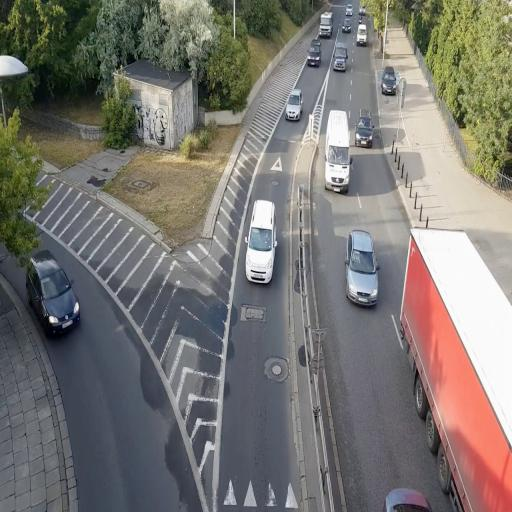vehicle: (398, 226, 512, 508), (25, 252, 81, 336), (244, 200, 278, 286), (345, 229, 380, 309), (324, 110, 350, 194), (355, 113, 373, 147), (285, 90, 304, 120), (381, 68, 398, 96), (333, 43, 348, 71), (307, 40, 322, 67), (318, 12, 332, 38), (356, 19, 369, 46), (319, 12, 332, 38)
